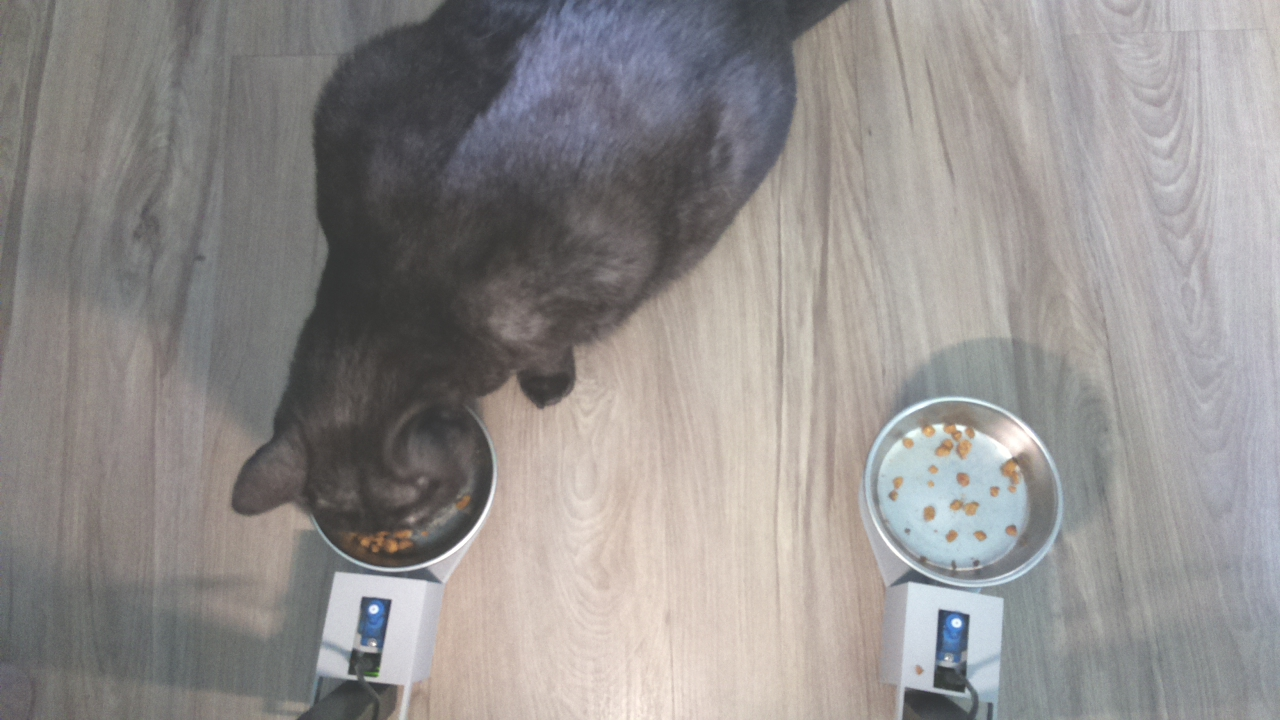open_bowl: (859, 390, 1064, 589)
saki_eating: (226, 303, 515, 586)
